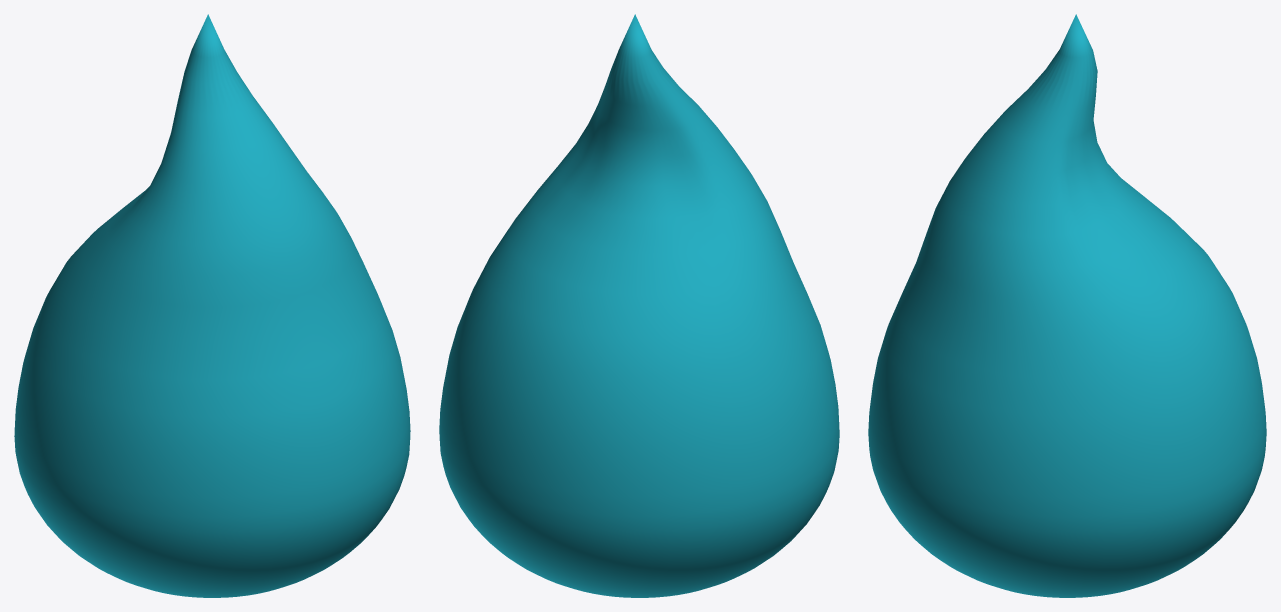
Rendered from fireball.fbx.
3 views of the same model, side by side, from view 1: azimuth 30°, elevation 25°; view 2: azimuth 150°, elevation 25°; view 3: azimuth 270°, elevation 25° (orthographic).
Visible parts, largest first — view 1: Sphère002; view 2: Sphère002; view 3: Sphère002.
Part boxes in pixels (x1=…): Sphère002: x1=14, y1=14, x2=410, y2=597; Sphère002: x1=439, y1=14, x2=839, y2=597; Sphère002: x1=868, y1=14, x2=1266, y2=597.
Bounding box in the file's own units: 21.63 × 33.63 × 21.63.
